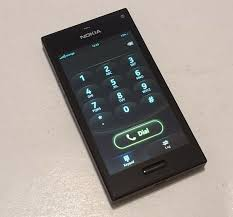nokia: (38, 5, 208, 210)
